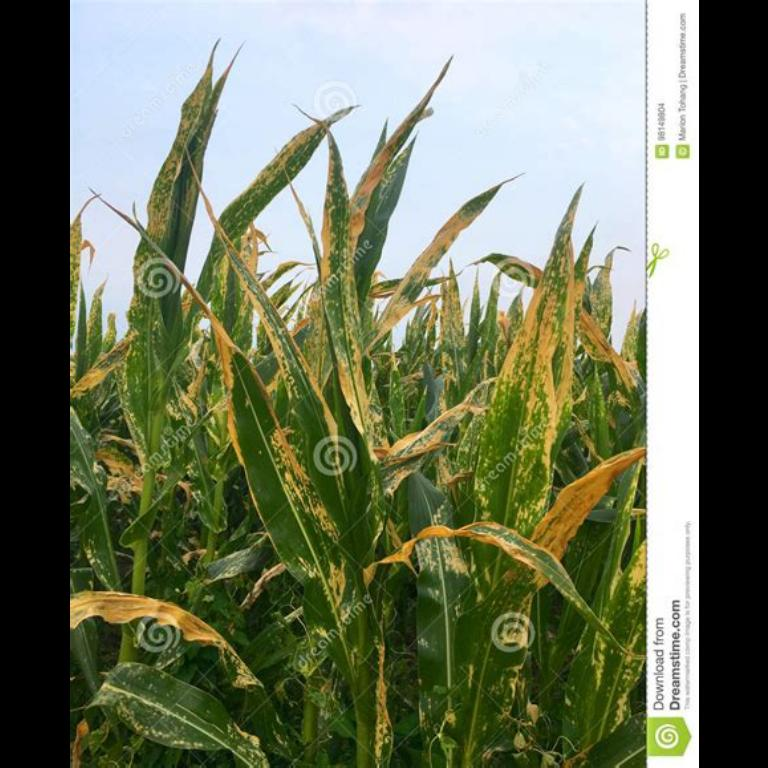blight: (518, 330, 550, 448)
